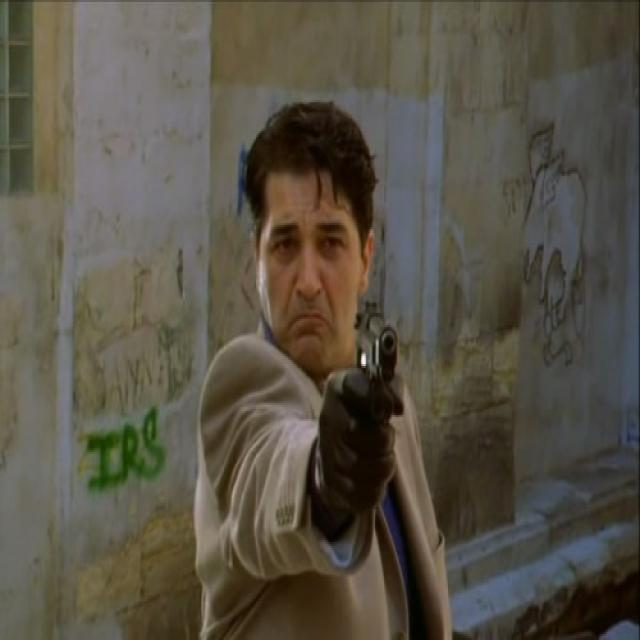weapons: (328, 278, 414, 523)
